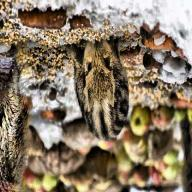boar: (60, 40, 147, 139)
